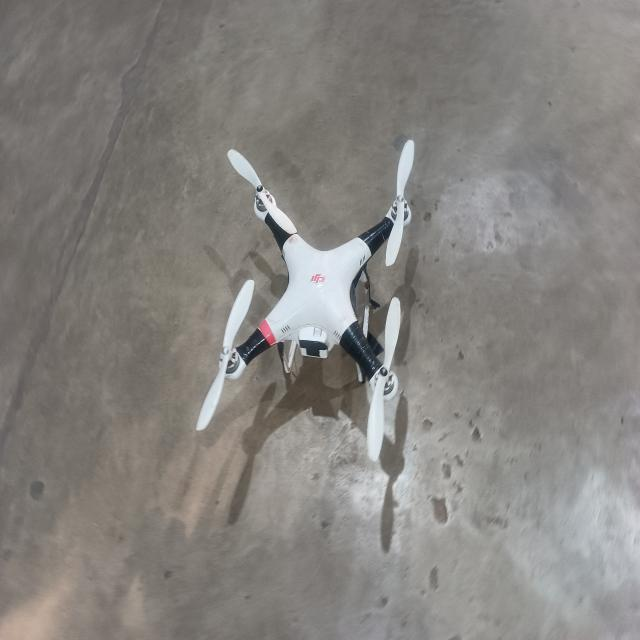drone: (192, 127, 456, 492)
